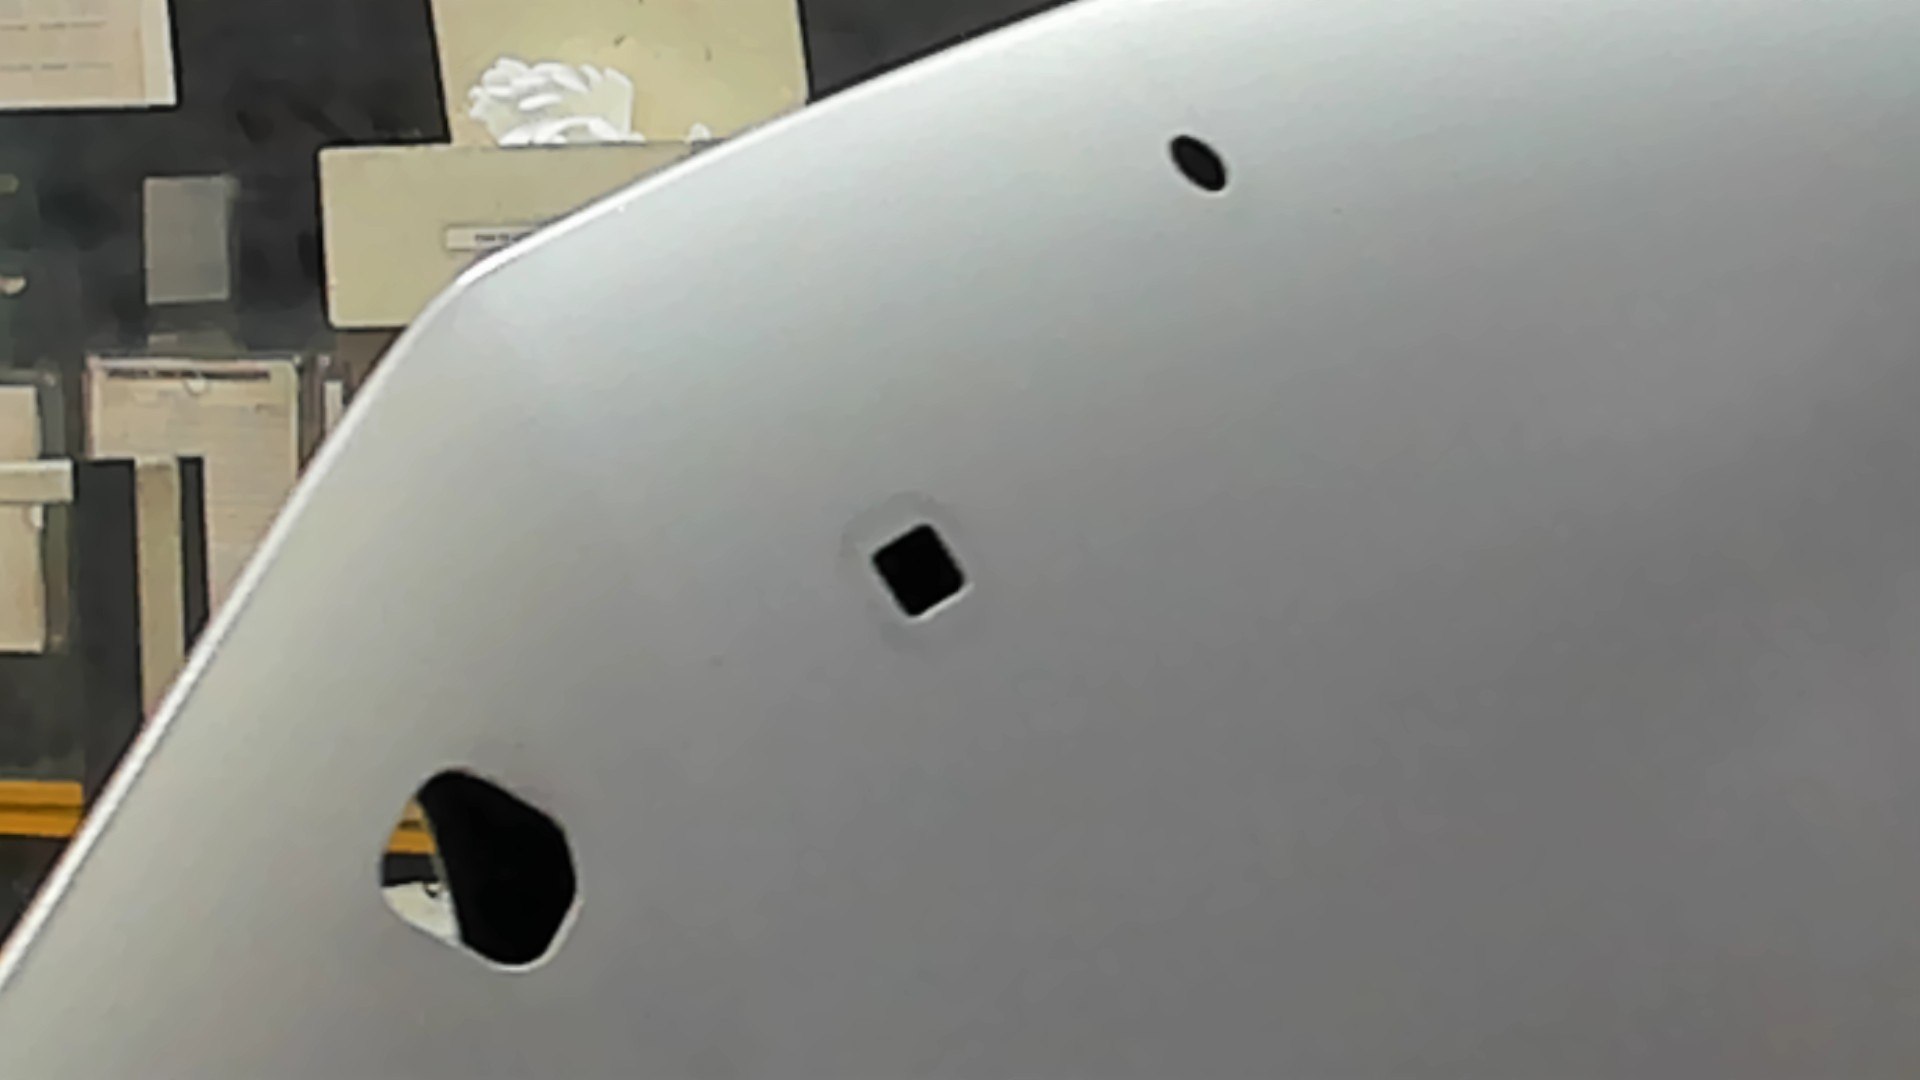Agujero: (869, 521, 969, 622), (1167, 132, 1228, 193)
Agujerote: (376, 766, 583, 971)
